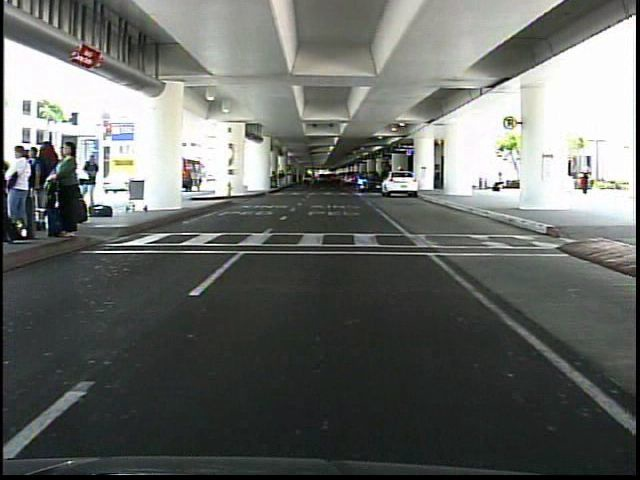person: (573, 163, 596, 202), (489, 167, 506, 199)
